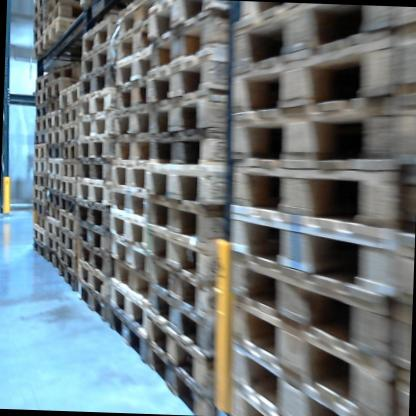pallet: (221, 192, 392, 305), (218, 299, 383, 416), (226, 246, 390, 354), (229, 26, 393, 125), (228, 92, 394, 186), (226, 152, 396, 232), (230, 5, 390, 78), (226, 333, 362, 416), (144, 313, 244, 398), (146, 192, 255, 255), (148, 284, 237, 356), (150, 221, 234, 293), (148, 46, 248, 106), (141, 160, 250, 212), (146, 257, 235, 320), (145, 344, 226, 411), (152, 15, 242, 73), (147, 93, 235, 144), (148, 129, 242, 174), (113, 15, 169, 63), (146, 4, 220, 38), (105, 307, 148, 365), (112, 41, 159, 94), (81, 8, 126, 63), (219, 379, 285, 415), (109, 260, 151, 313), (114, 275, 148, 339), (107, 208, 149, 253), (110, 232, 148, 281), (42, 17, 106, 46), (76, 216, 122, 254), (114, 72, 154, 115), (82, 37, 122, 79), (110, 157, 155, 193), (78, 237, 113, 283), (74, 172, 120, 205), (77, 285, 112, 328), (111, 180, 150, 218), (114, 132, 155, 168), (79, 83, 126, 114), (78, 106, 121, 138), (80, 59, 117, 96), (113, 104, 154, 137), (117, 0, 156, 34), (78, 261, 108, 305), (75, 156, 118, 185), (76, 135, 120, 162), (45, 2, 85, 31), (75, 200, 113, 228), (59, 79, 85, 114), (51, 63, 81, 86), (58, 189, 80, 219), (62, 101, 85, 127), (59, 259, 76, 294), (29, 20, 49, 48), (60, 225, 77, 257), (61, 136, 80, 163), (59, 156, 78, 183), (59, 117, 79, 142), (30, 36, 55, 56), (45, 248, 66, 271), (61, 205, 78, 233), (59, 172, 78, 197), (44, 232, 66, 253), (28, 6, 45, 33), (61, 244, 75, 276), (82, 0, 109, 16), (28, 70, 51, 88), (45, 127, 67, 145), (44, 219, 64, 238), (45, 202, 66, 219), (46, 78, 62, 100), (46, 143, 66, 160), (28, 242, 46, 260), (46, 113, 62, 133), (45, 0, 74, 11), (46, 96, 63, 113), (45, 174, 63, 190), (45, 190, 66, 203), (33, 99, 47, 118), (30, 188, 44, 207), (30, 214, 45, 231), (46, 160, 64, 174), (33, 143, 45, 163), (29, 201, 43, 218), (28, 87, 47, 99), (33, 118, 47, 134), (32, 176, 46, 192), (31, 229, 46, 242), (32, 0, 45, 13), (33, 162, 44, 177), (33, 133, 47, 143)
